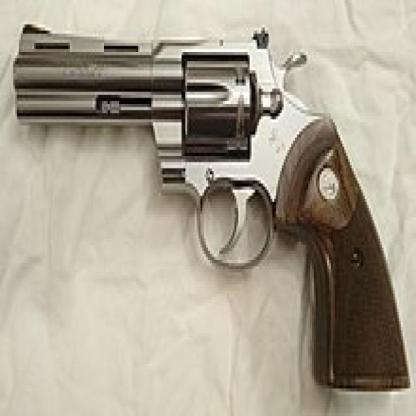handgun: (9, 18, 413, 398)
